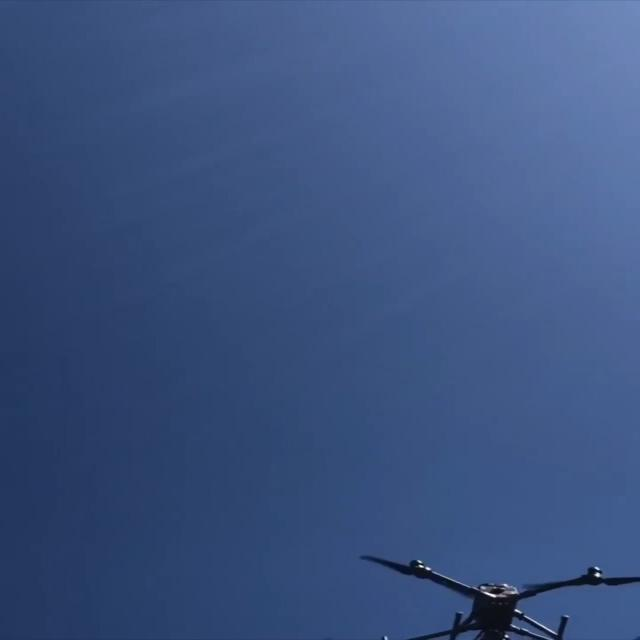drone: (358, 553, 638, 639)
